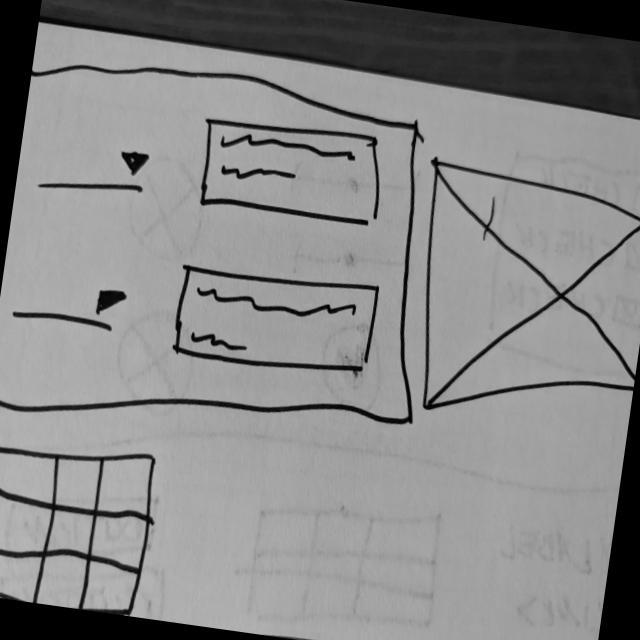container: (0, 40, 461, 471)
select: (168, 254, 382, 385), (34, 132, 156, 204), (8, 271, 132, 337)
